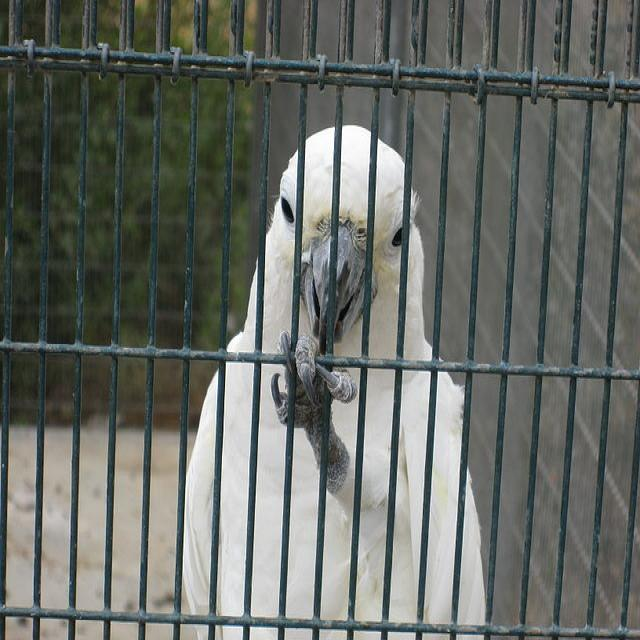Kakatua Putih: (148, 78, 507, 640)
